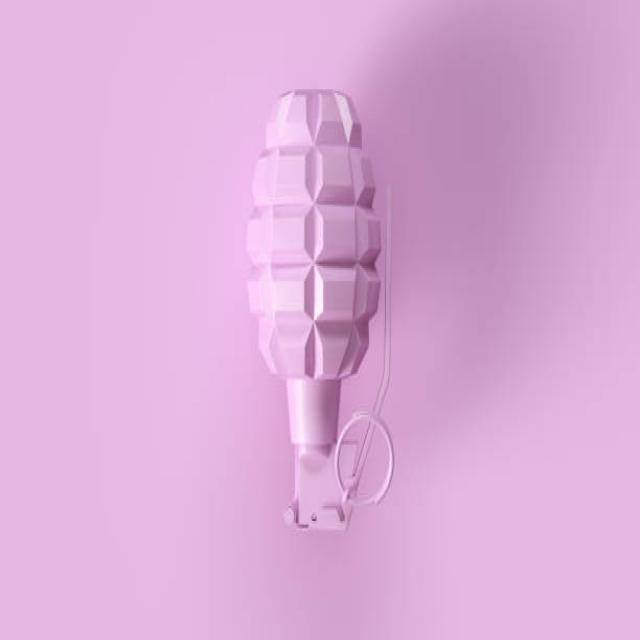grenade: (237, 77, 400, 541)
